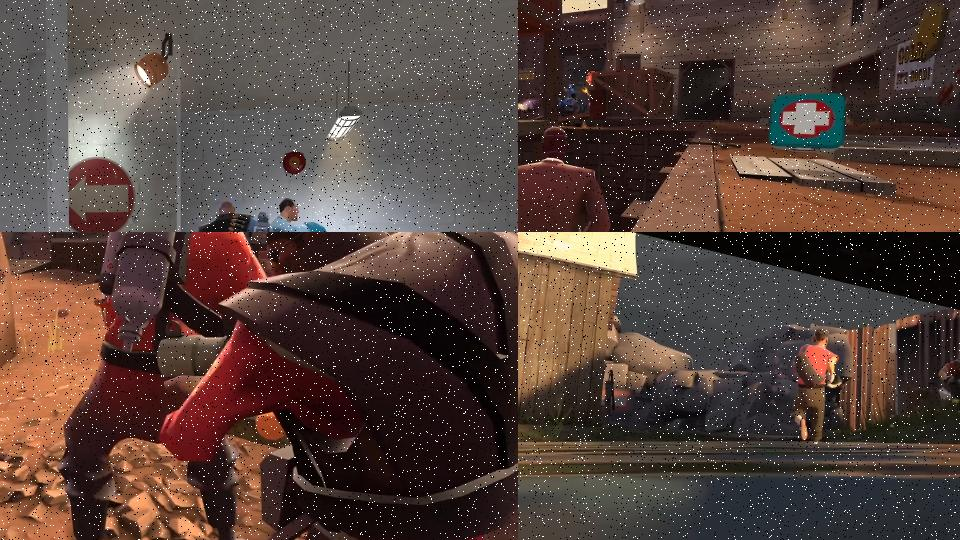Enemy: (151, 232, 518, 540), (46, 232, 268, 540), (518, 125, 611, 232), (790, 328, 842, 444), (191, 201, 277, 232), (938, 349, 960, 408)
